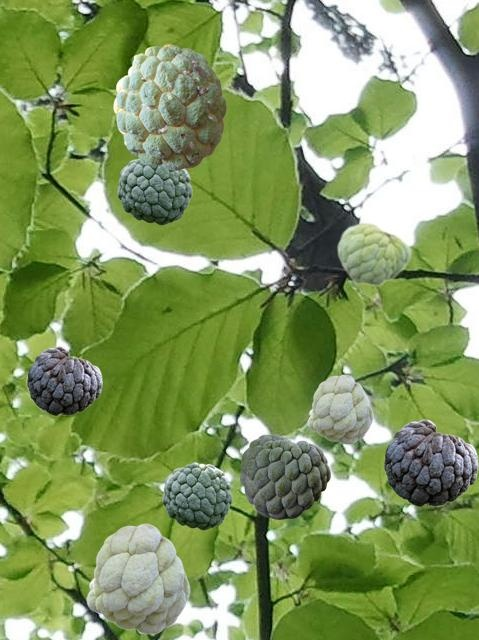atis: (113, 44, 225, 169), (86, 523, 189, 633), (384, 419, 477, 505), (240, 434, 329, 518), (27, 346, 101, 414), (117, 158, 191, 224), (336, 221, 410, 286), (162, 462, 231, 529), (307, 374, 372, 443), (25, 375, 47, 413)
